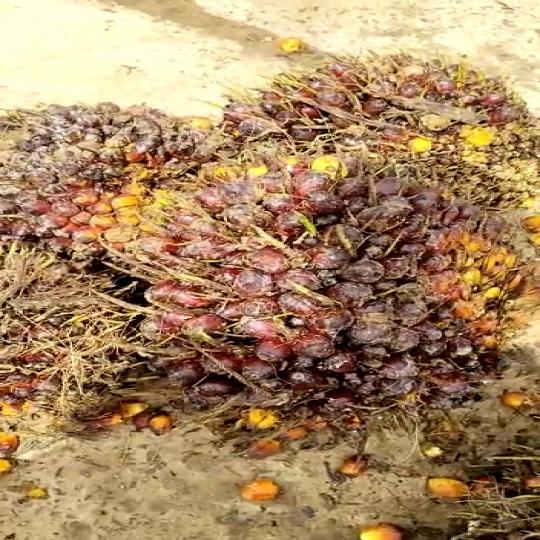kurang masak: (0, 52, 534, 424)
